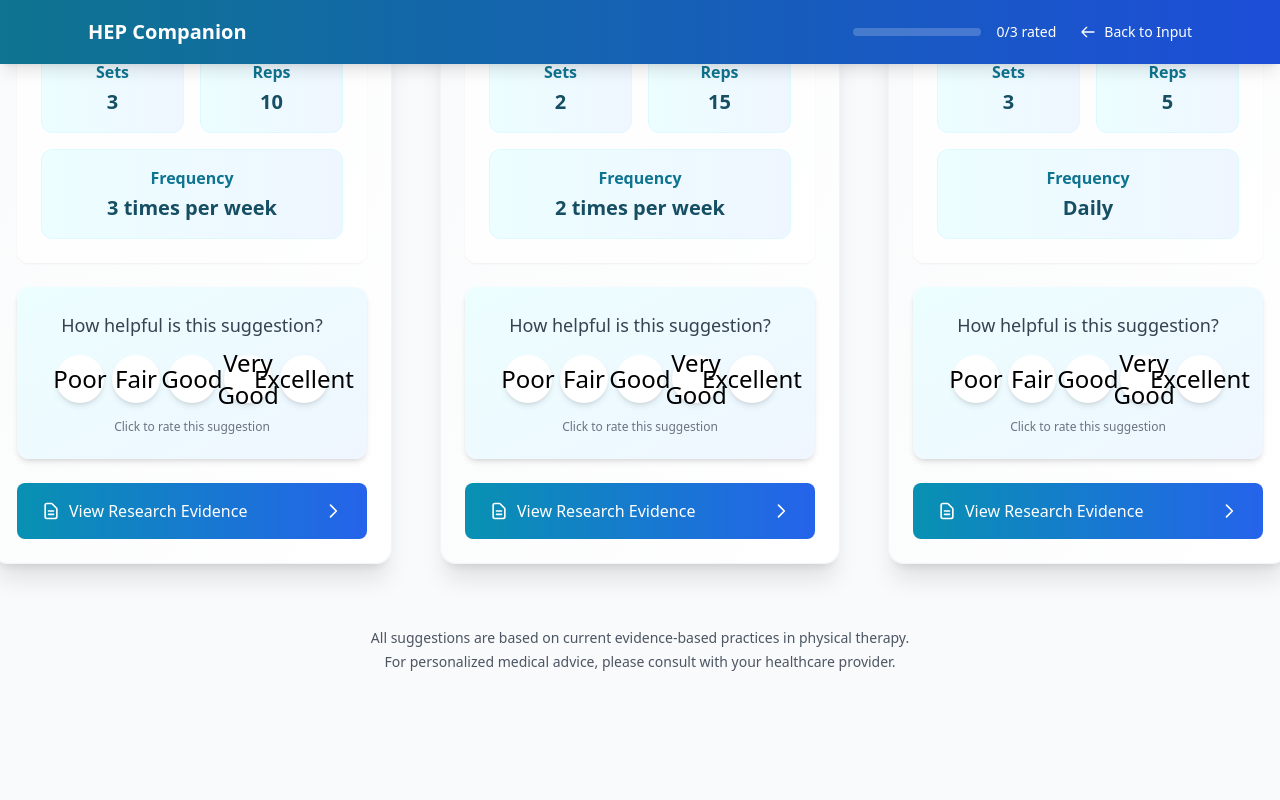
Test: ExerciseSuggestionsDisplay Component › toggles research evidence when button is clicked
The width and height of the screenshot is (1280, 800).
(page scrolled)
expect the text "Supporting Research:" is not shown: met
Find and click the first "View Research Evidence" button
Click the button "View Research Evidence" below "3 times per week" at {"x": 192, "y": 511}, box [17,483,367,539]
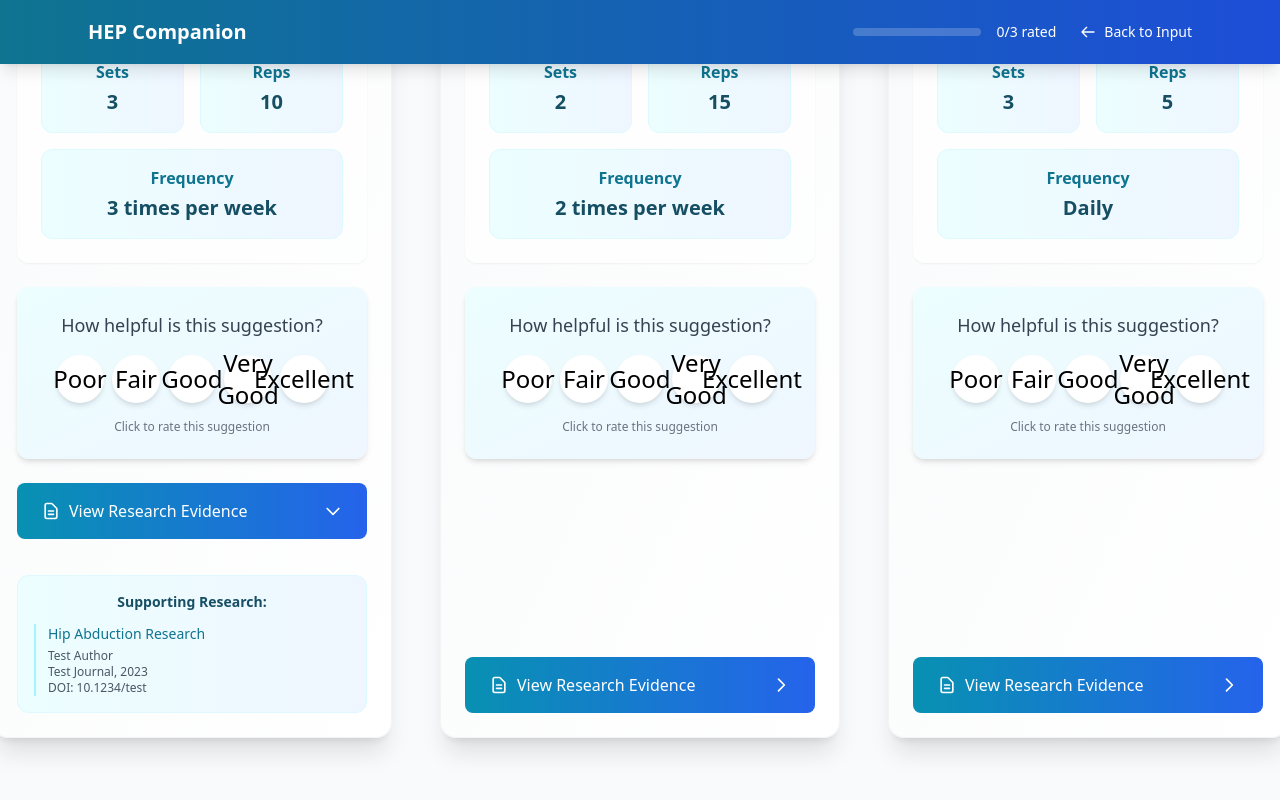
expect the text "Supporting Research:" is shown: met, box [117,592,267,611]
expect the link "Hip Abduction Research" is shown: met, box [48,624,205,643]
